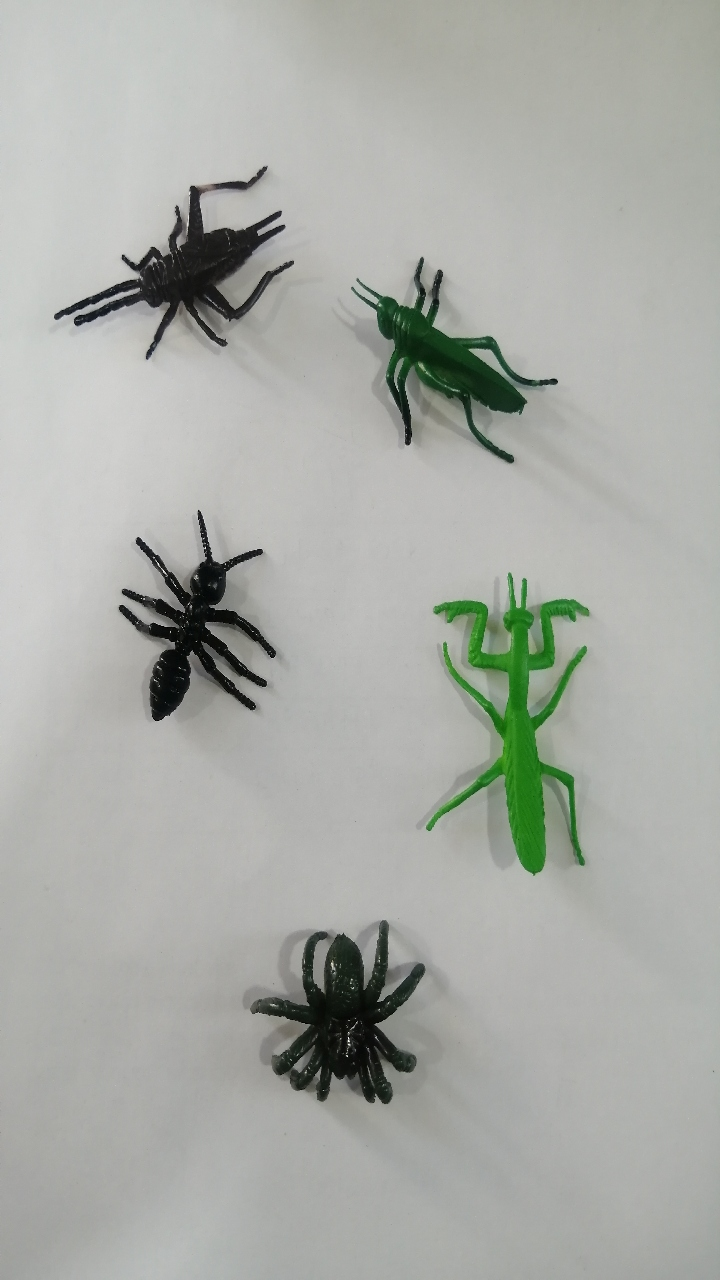intruso: (324, 211, 588, 489), (401, 534, 606, 892), (24, 129, 314, 372), (209, 882, 457, 1154), (94, 468, 289, 755)
